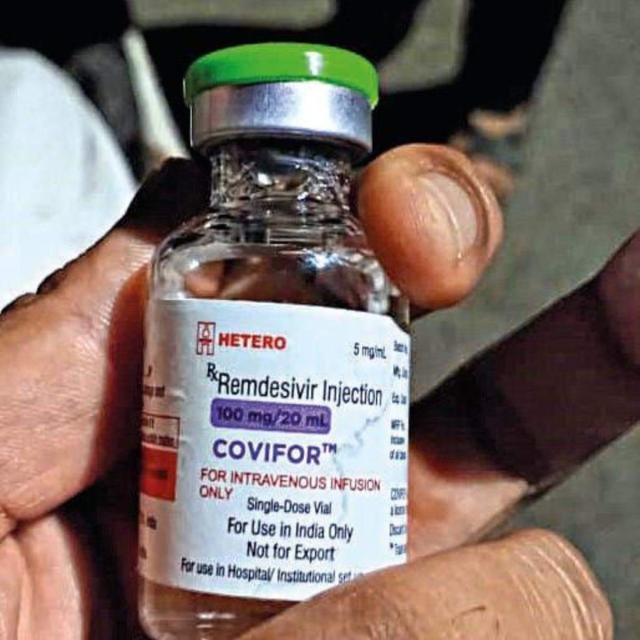B3: (126, 29, 418, 640)
